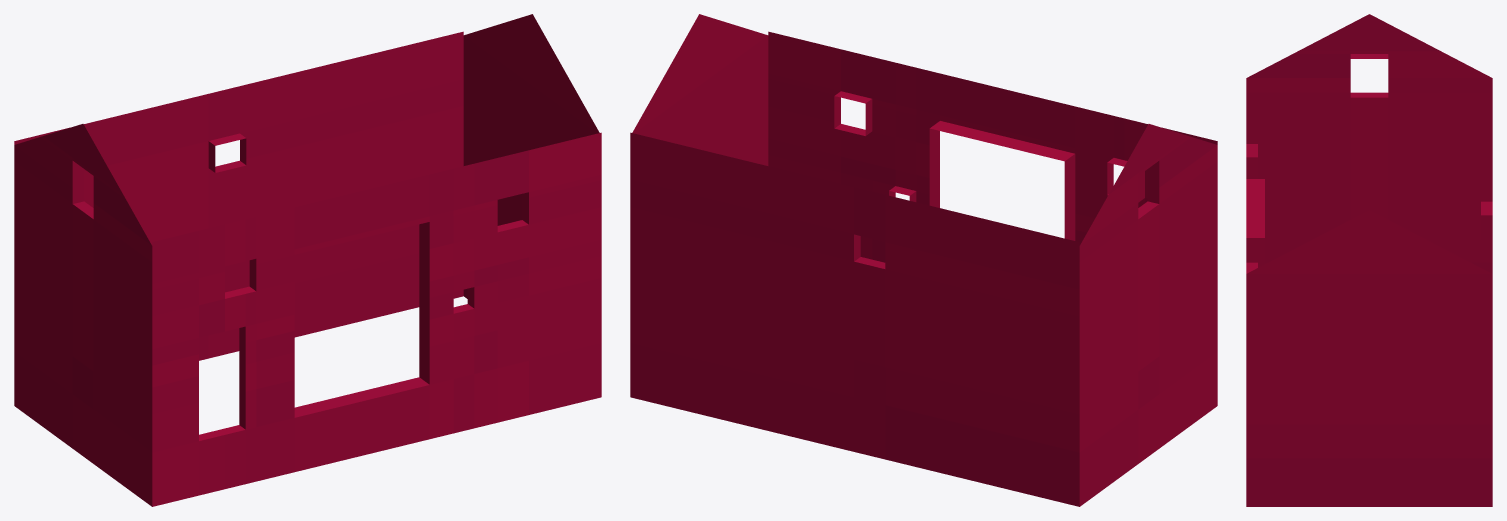
Rendered from SM_Bld_068_Masonry.glb.
The picture shows the model from 3 angles, left to right: view 1: azimuth 30°, elevation 25°; view 2: azimuth 150°, elevation 25°; view 3: azimuth 270°, elevation 25°; orthographic projection. The views are drawn at different scales.
Visible parts, largest first — view 1: SM_Bld_068_Masonry; view 2: SM_Bld_068_Masonry; view 3: SM_Bld_068_Masonry.
Part boxes in pixels (bbox=[...]): SM_Bld_068_Masonry: bbox=[14, 14, 601, 506]; SM_Bld_068_Masonry: bbox=[630, 14, 1217, 506]; SM_Bld_068_Masonry: bbox=[1246, 14, 1492, 506].
Bounding box in the file's own units: 8.65 × 6.12 × 4.6.
